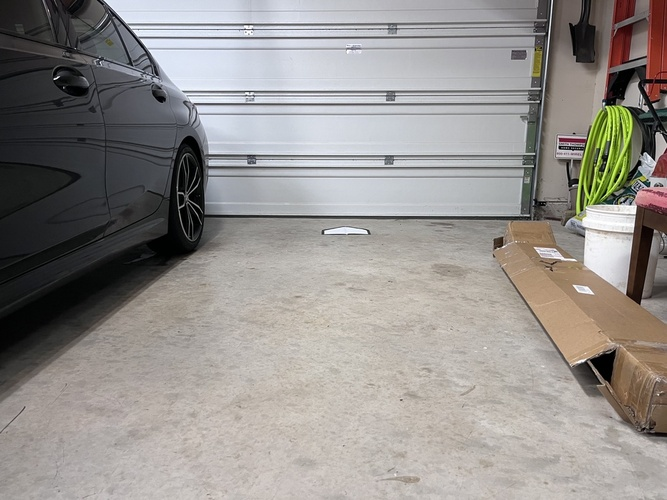homeplate: (321, 226, 370, 235)
